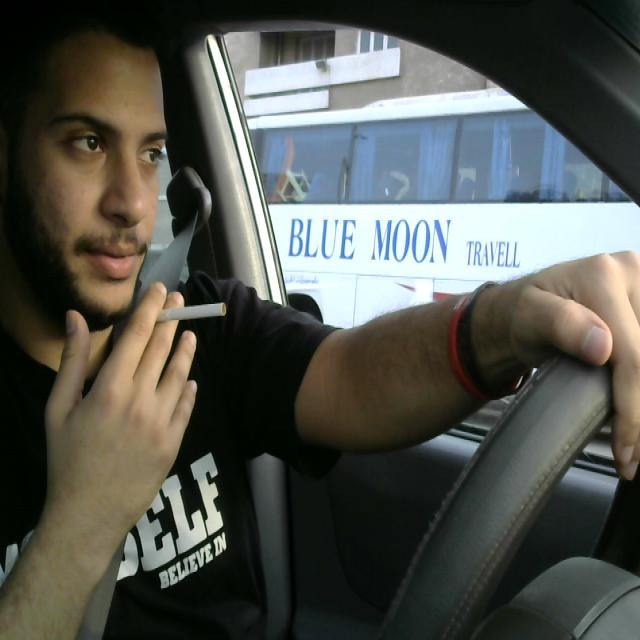smoking: (125, 288, 235, 329)
